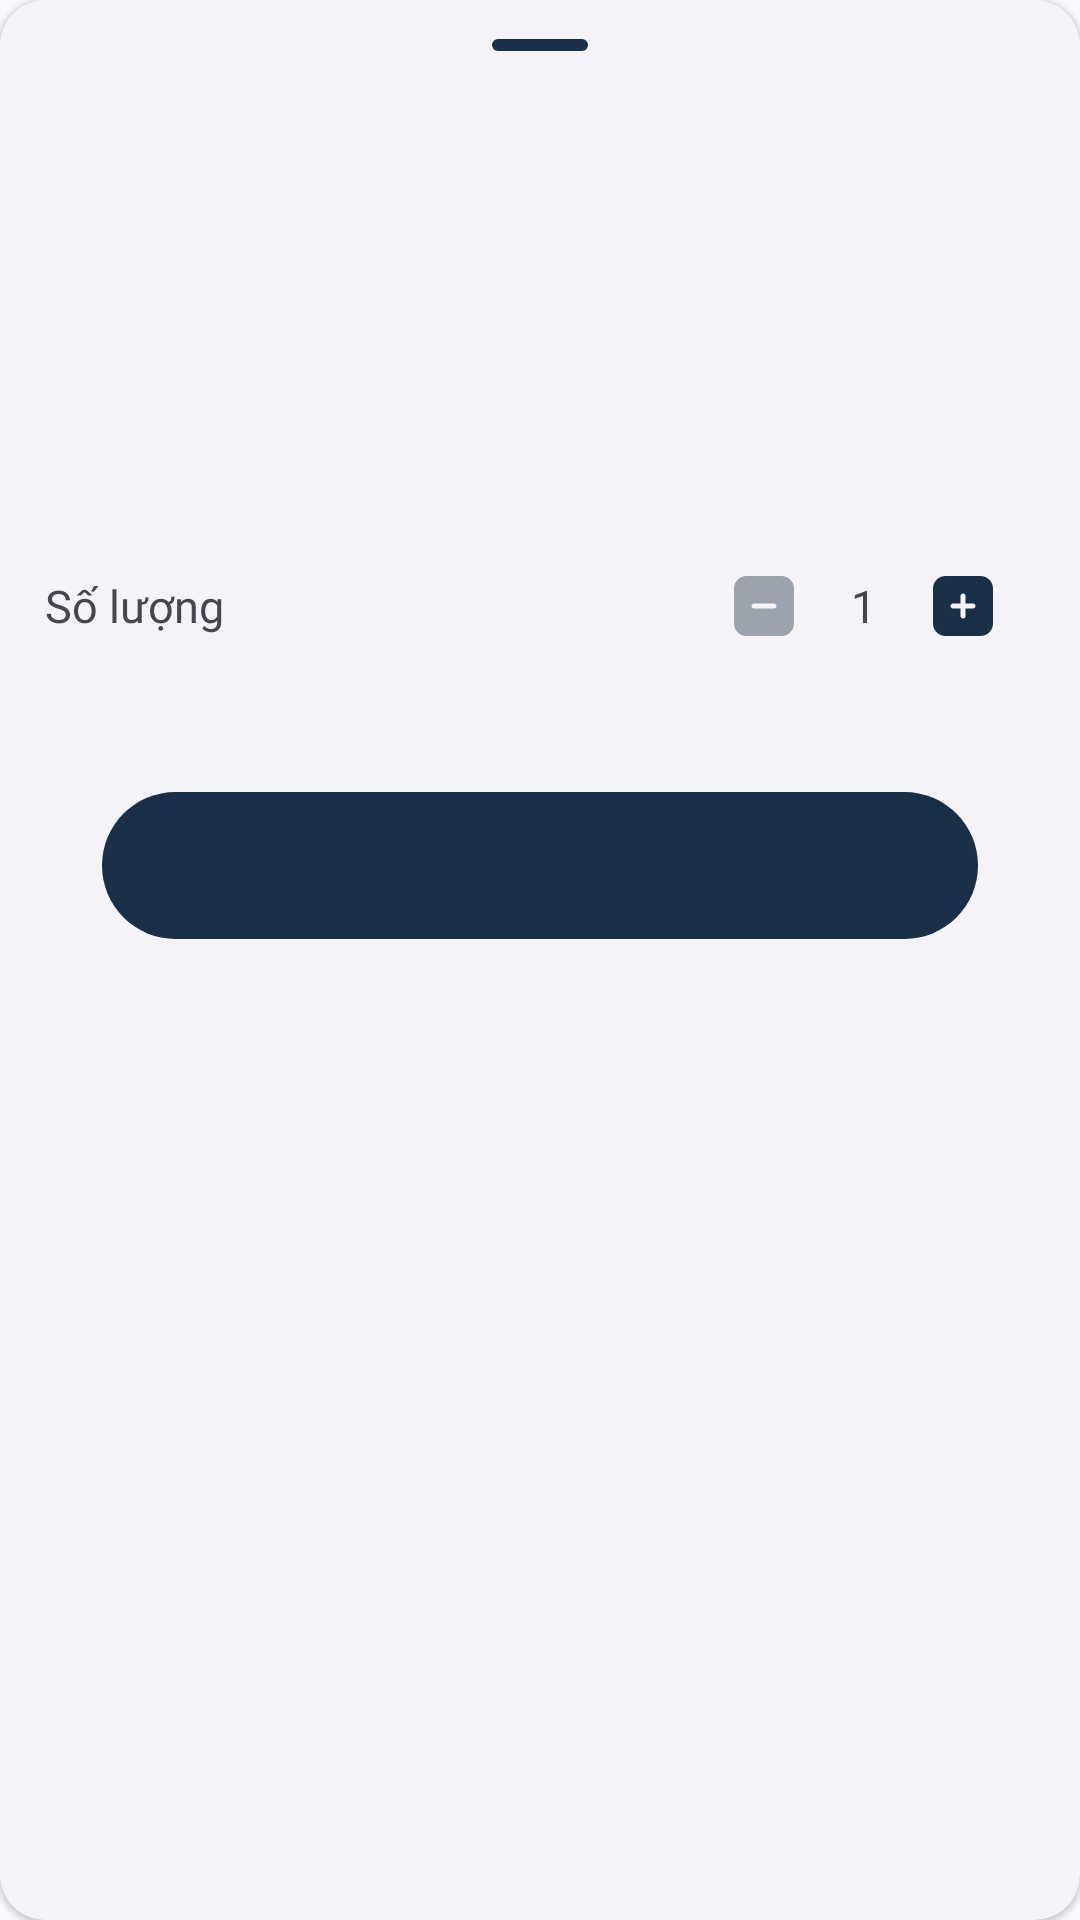

Icon click points for this 1080*1920 phone screenshot, format [x,y]:
minus: [764,606]
plus: [963,606]
